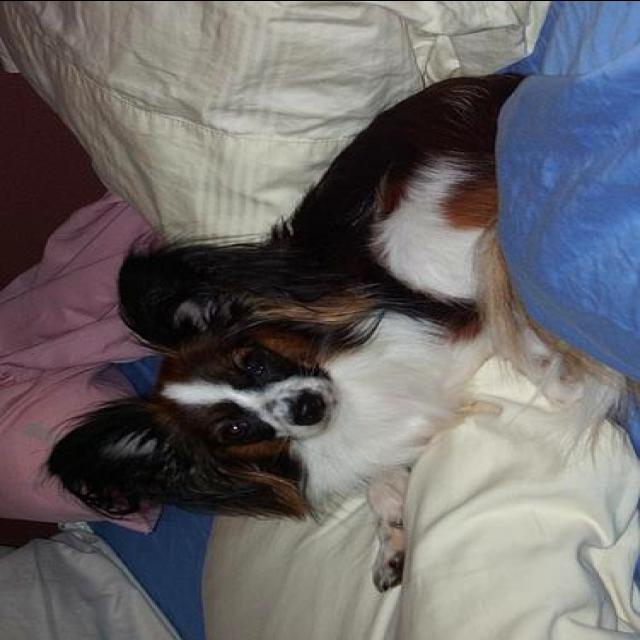papillon: (39, 69, 628, 595)
